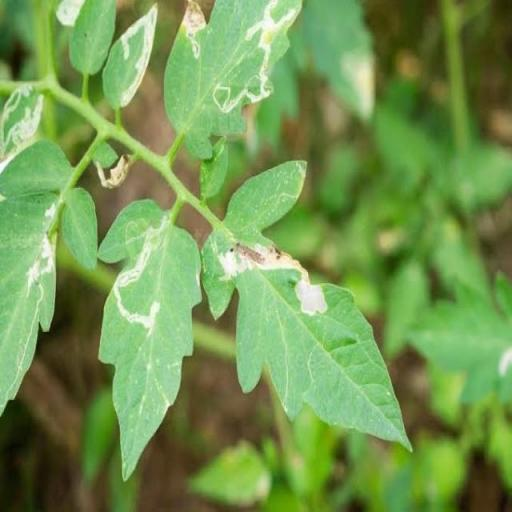disease_tomato: (200, 161, 416, 456), (100, 196, 202, 484), (162, 0, 302, 160), (102, 0, 160, 111)
